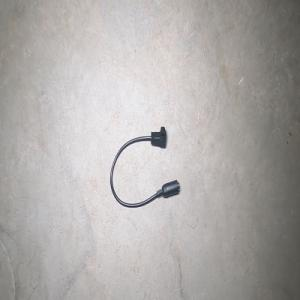Wire: (110, 126, 179, 208)
